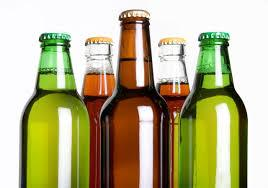Glass bottle: (9, 9, 261, 188)
